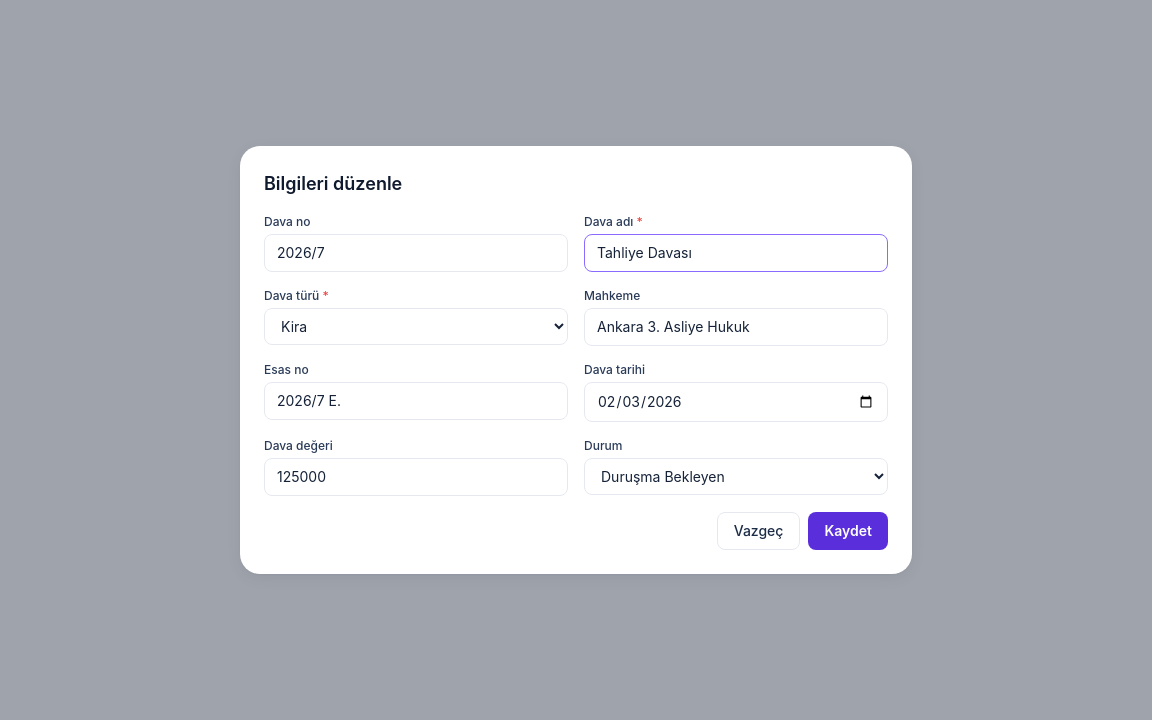
Test: CaseEditModal › shows a Turkish fallback, never the raw message, for other failures
The width and height of the screenshot is (1152, 720).
Click the button "Kaydet" at (848, 531), box x1=808 y1=512 x2=888 y2=550
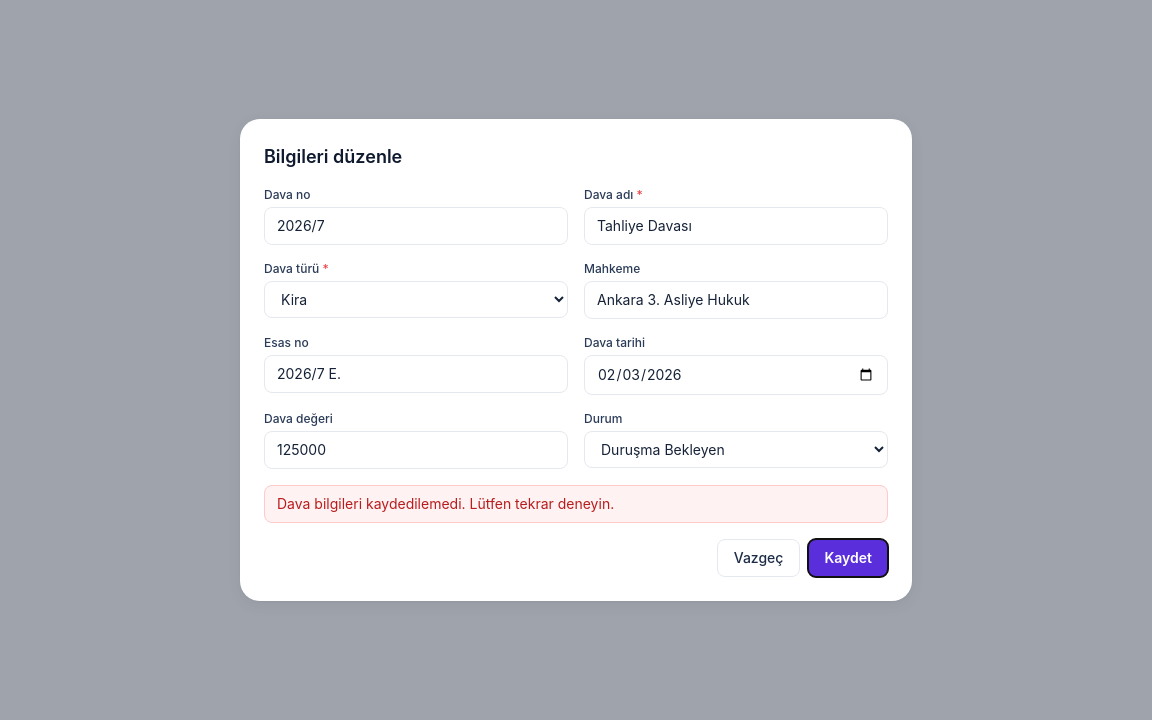
Expected: the message does not show "Failed to fetch", x1=264 y1=485 x2=888 y2=523
Now the message reads "Dava bilgileri kaydedilemedi. Lütfen tekrar deneyin.", box x1=277 y1=495 x2=614 y2=512
